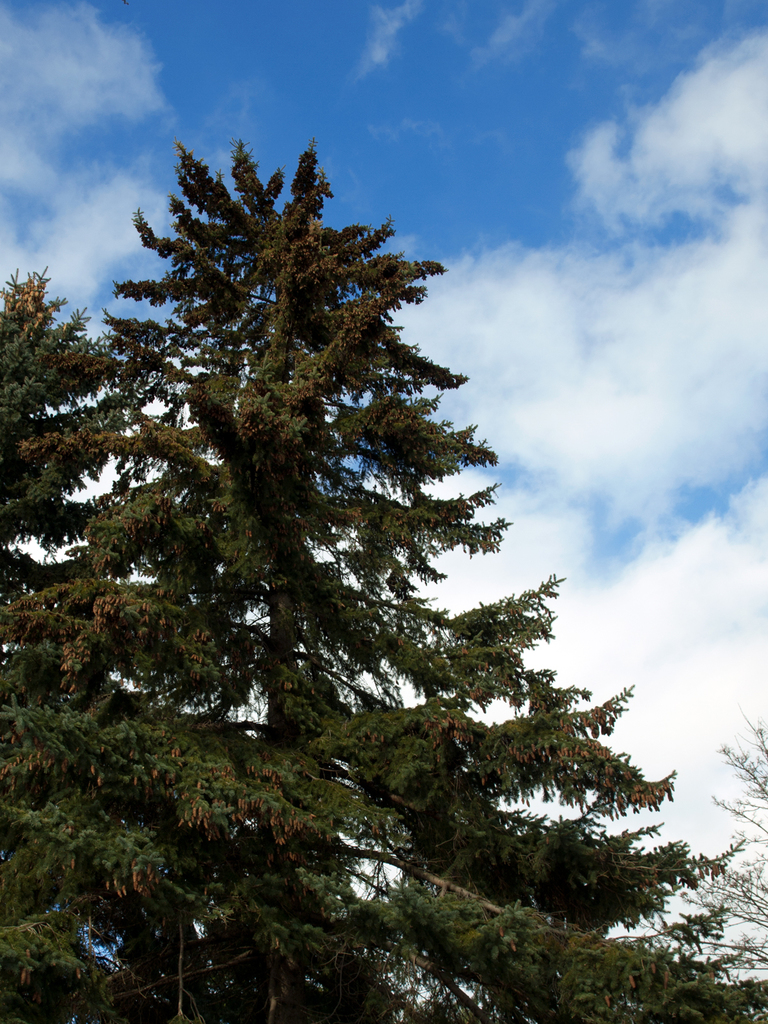Tree: (0, 126, 767, 1023), (643, 704, 767, 967)
